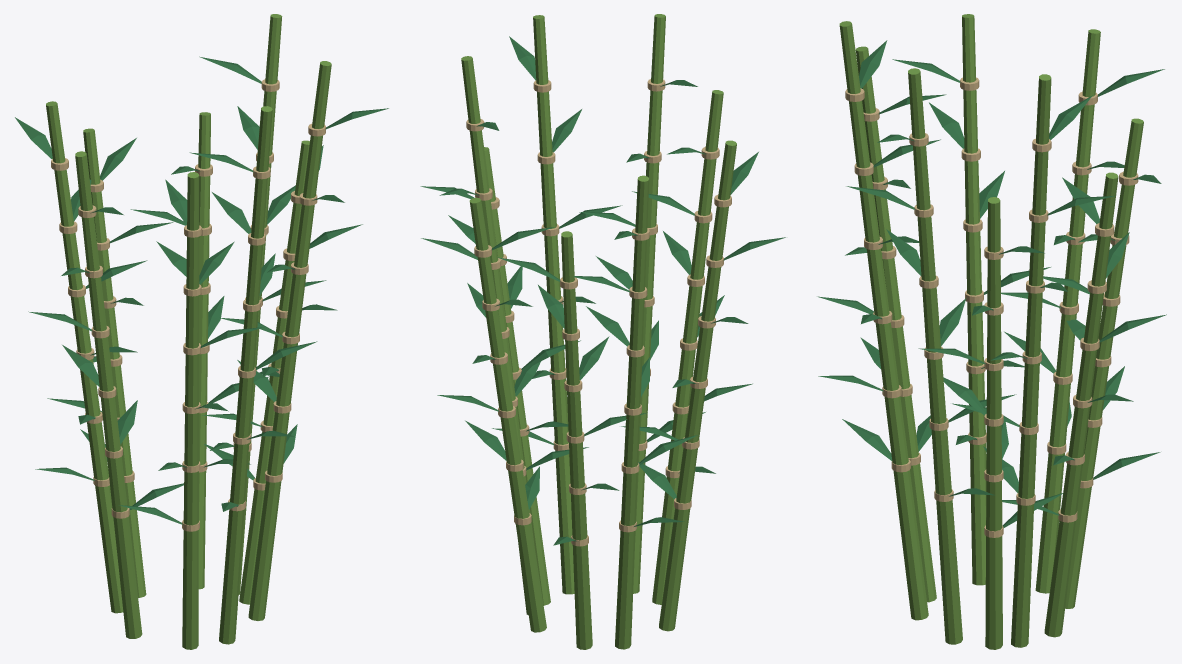
The model's file is 036_bamboo_clump.glb.
3 renders of one model, left to right at view 1: azimuth 30°, elevation 25°; view 2: azimuth 150°, elevation 25°; view 3: azimuth 270°, elevation 25°, orthographic. The views are drawn at different scales.
Visible parts, largest first — view 1: Bamboo clump; view 2: Bamboo clump; view 3: Bamboo clump.
Part boxes in pixels (bbox=[...]): Bamboo clump: bbox=[15, 14, 388, 649]; Bamboo clump: bbox=[420, 14, 785, 649]; Bamboo clump: bbox=[817, 14, 1166, 649].
Size of the model in its own units: 2.74 by 4.51 by 2.41.
